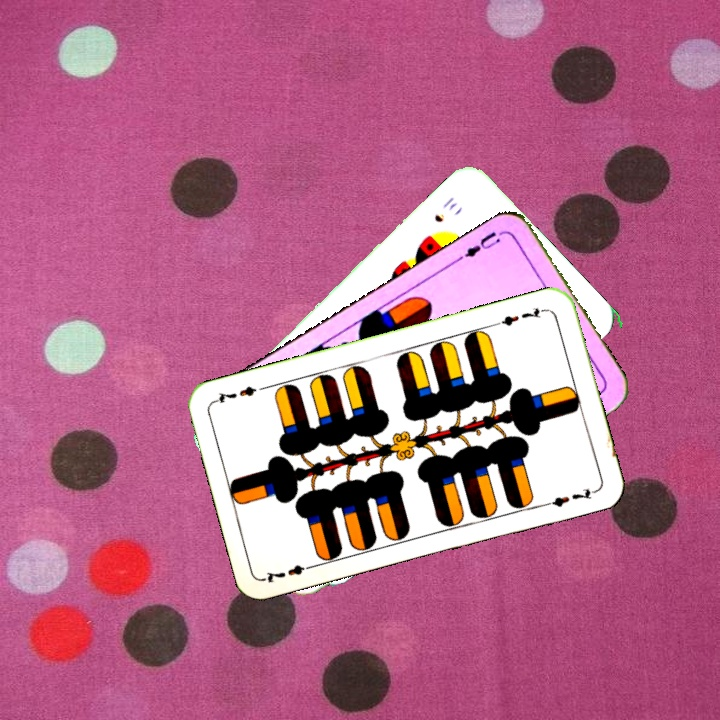E7: (491, 303, 550, 329), (261, 560, 319, 586)
EU: (454, 227, 503, 264)
S10: (430, 192, 460, 225)
